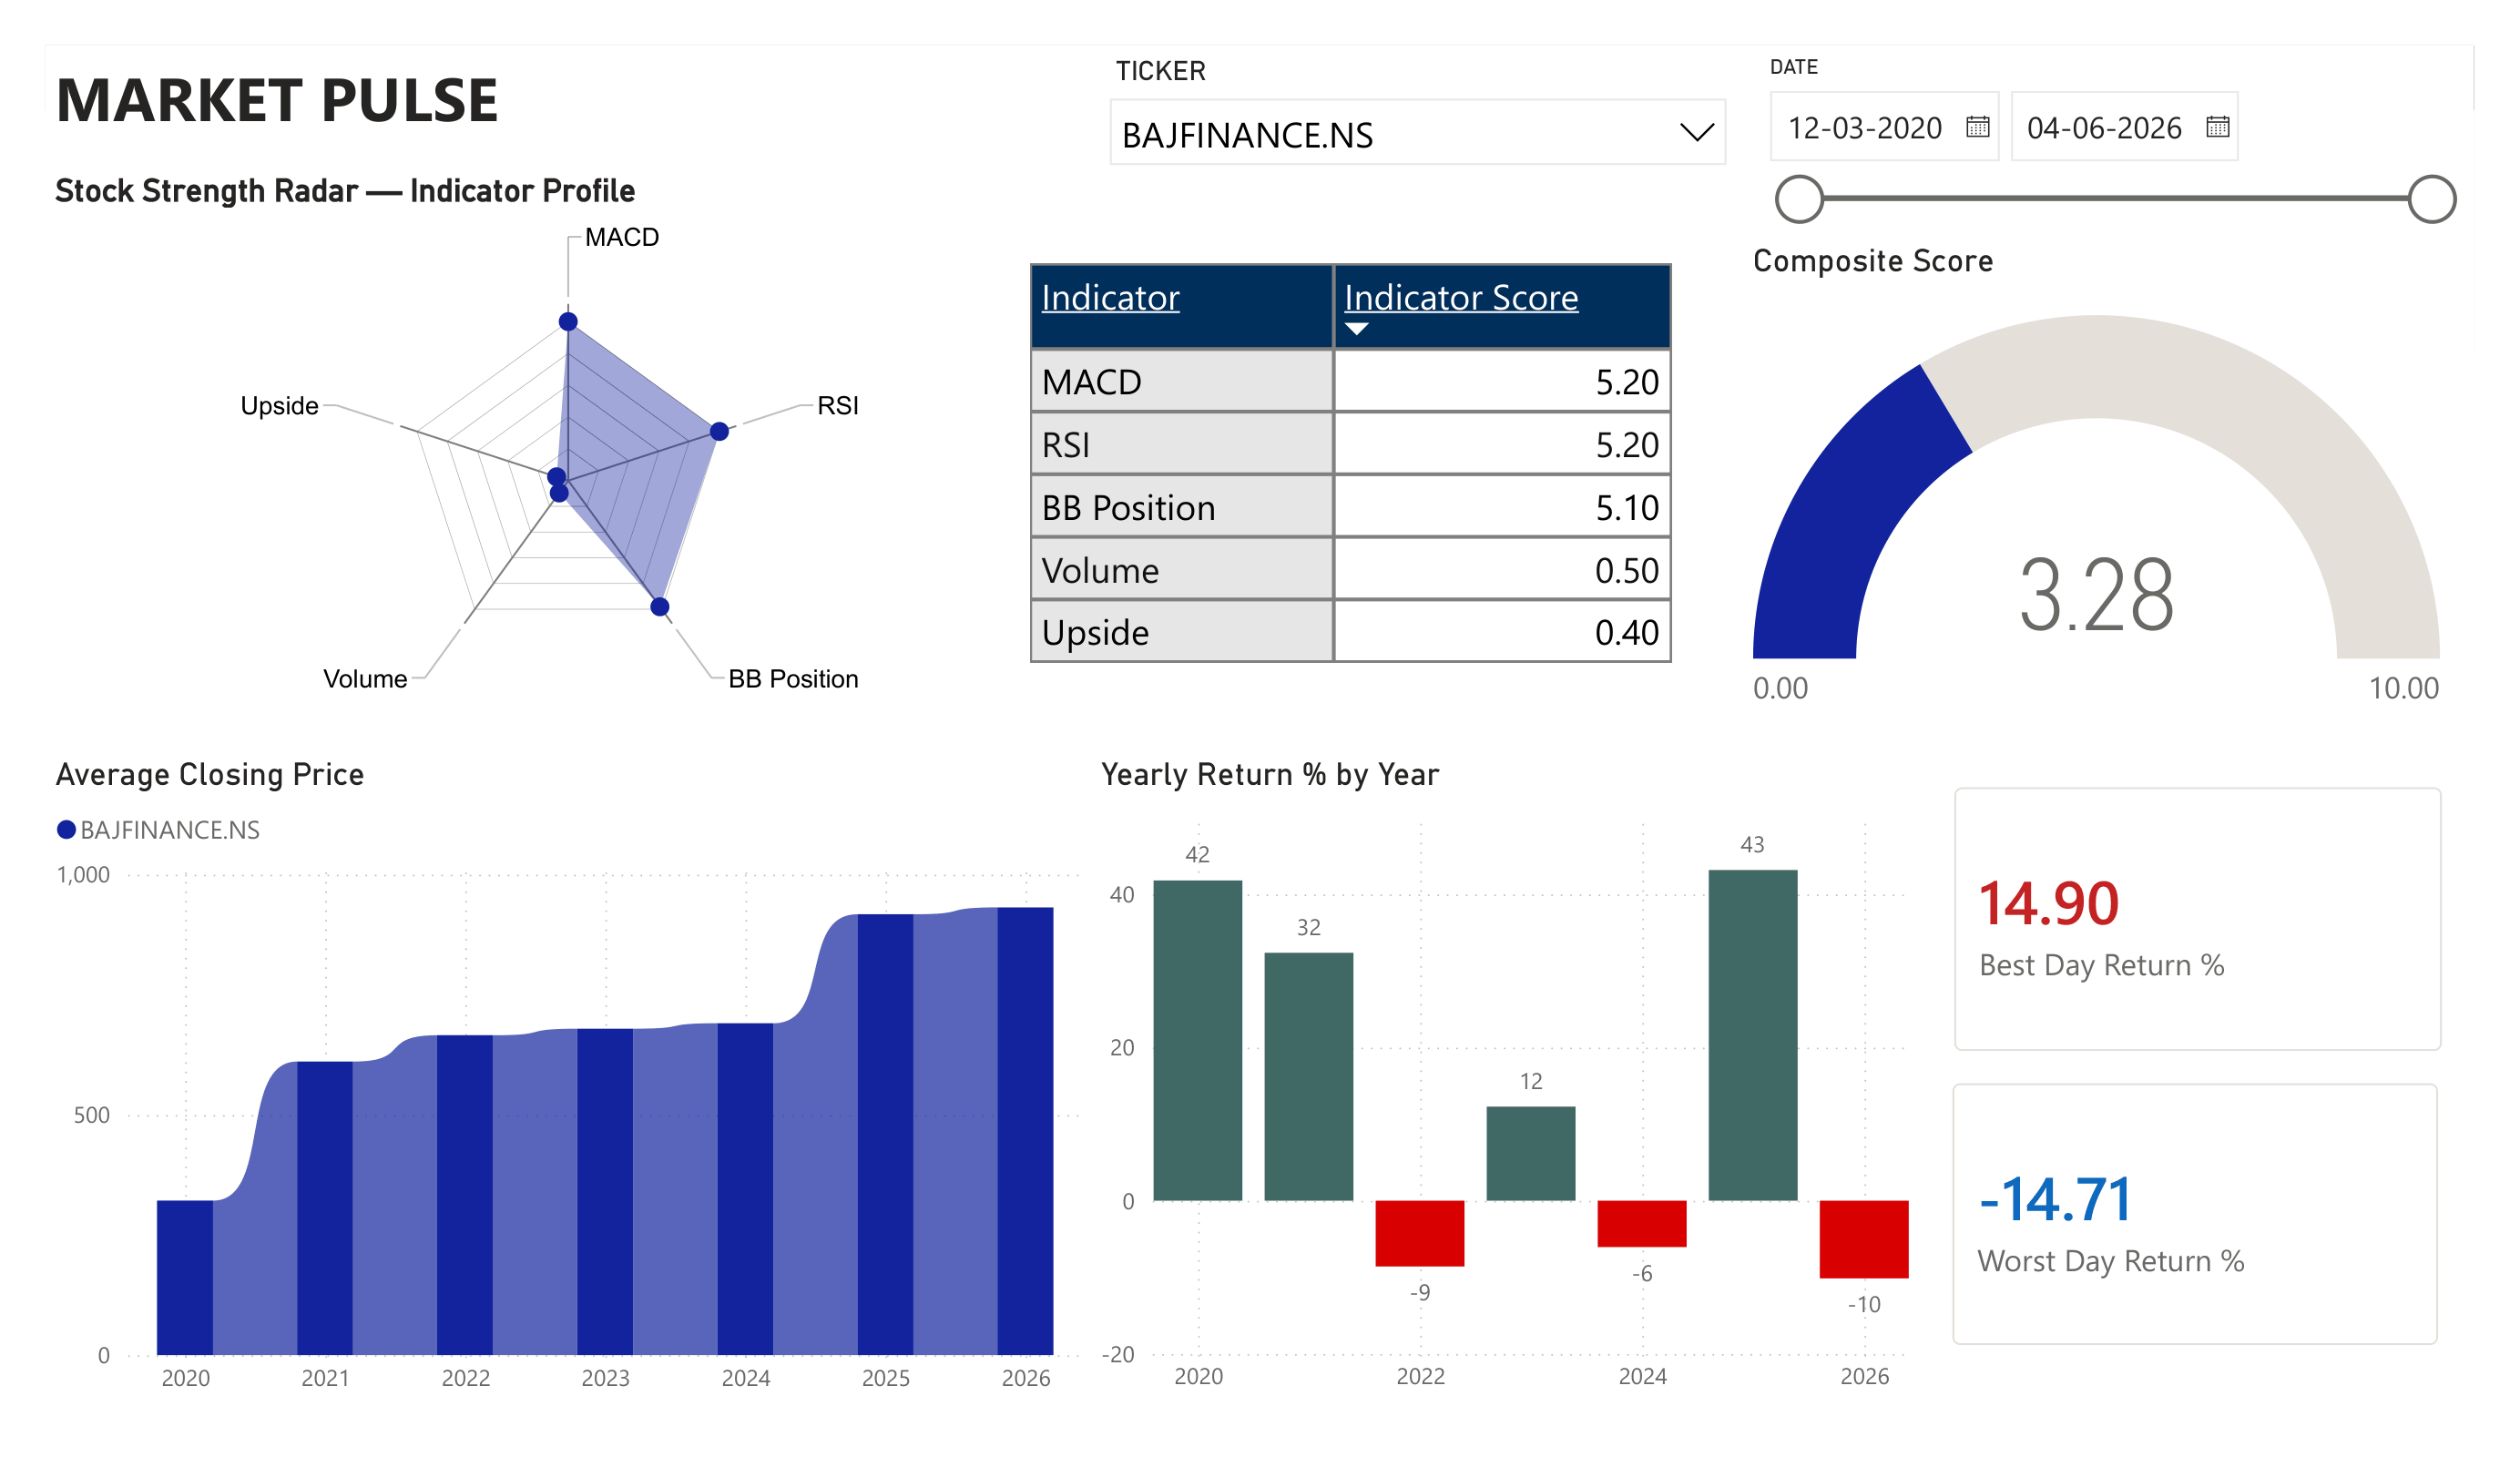

The page's visual inventory and layout, read from the dashboard file:
{"tool":"powerbi","page":{"name":"MARKET PULSE","canvas":[1280,720],"ordinal":2},"visuals":[{"type":"tableEx","fields":{"Values":["Indicator Names.Indicator","Indicator Names.Indicator Score"]},"box":[513.3,110,355,258.3],"z":0},{"type":"RadarChart1446119667547","title":"Stock Strength Radar — Indicator Profile","fields":{"Category":["Indicator Names.Indicator"],"Y":["Indicator Names.Indicator Score"]},"box":[0,65.7,551.4,308.6],"z":1000},{"type":"slicer","fields":{"Values":["enriched_stocks (2).ticker"]},"box":[551.4,0,344.3,102.9],"z":2000},{"type":"slicer","fields":{"Values":["enriched_stocks (2).date"]},"box":[895.7,0,382.9,102.9],"z":3000},{"type":"gauge","title":"Composite Score","fields":{"Y":["Indicator Names.Composite_Score"]},"box":[895,103.3,371.7,271.7],"z":4000},{"type":"ribbonChart","title":"Average Closing Price ","fields":{"Y":["Avg(enriched_stocks (2).close)"],"Series":["enriched_stocks (2).ticker"],"Category":["enriched_stocks (2).date.Variation.Date Hierarchy.Year"]},"box":[0,374.3,551.4,345.7],"z":5000},{"type":"textbox","box":[0,0,531.4,65.7],"z":6000},{"type":"columnChart","fields":{"Y":["Indicator Names.Yearly Return %"],"Category":["enriched_stocks (2).date.Variation.Date Hierarchy.Year","enriched_stocks (2).date.Variation.Date Hierarchy.Quarter","enriched_stocks (2).date.Variation.Date Hierarchy.Month","enriched_stocks (2).date.Variation.Date Hierarchy.Day"]},"box":[551.4,374.3,435.7,345.7],"z":7000},{"type":"cardVisual","fields":{"Data":["Indicator Names.Best Day Return %"]},"box":[988.6,374.3,291.4,172.9],"z":8000},{"type":"cardVisual","fields":{"Data":["Indicator Names.Worst Day Return %"]},"box":[988.3,530,290,171.7],"z":9000}]}

Visuals, with their boxes on the page's 1280x720 design canvas (x1, y1, x2, y2). These are canvas units, not pixel positions in the 2520x1457 screenshot, which may show the page scaled, cropped or inside an application window:
tableEx - Indicator Names.Indicator x Indicator Names.Indicator Score: box(513, 110, 868, 368)
"Stock Strength Radar — Indicator Profile" RadarChart1446119667547: box(0, 66, 551, 374)
slicer - enriched_stocks (2).ticker: box(551, 0, 896, 103)
slicer - enriched_stocks (2).date: box(896, 0, 1279, 103)
"Composite Score" gauge: box(895, 103, 1267, 375)
"Average Closing Price " ribbonChart: box(0, 374, 551, 720)
textbox: box(0, 0, 531, 66)
columnChart - Indicator Names.Yearly Return % x enriched_stocks (2).date.Variation.Date Hierarchy.Year: box(551, 374, 987, 720)
cardVisual - Indicator Names.Best Day Return %: box(989, 374, 1280, 547)
cardVisual - Indicator Names.Worst Day Return %: box(988, 530, 1278, 702)
